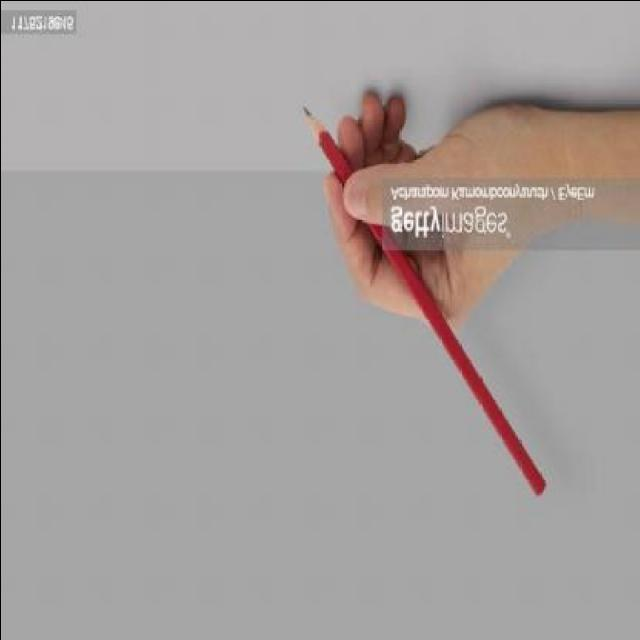pencil: (298, 100, 340, 168)
